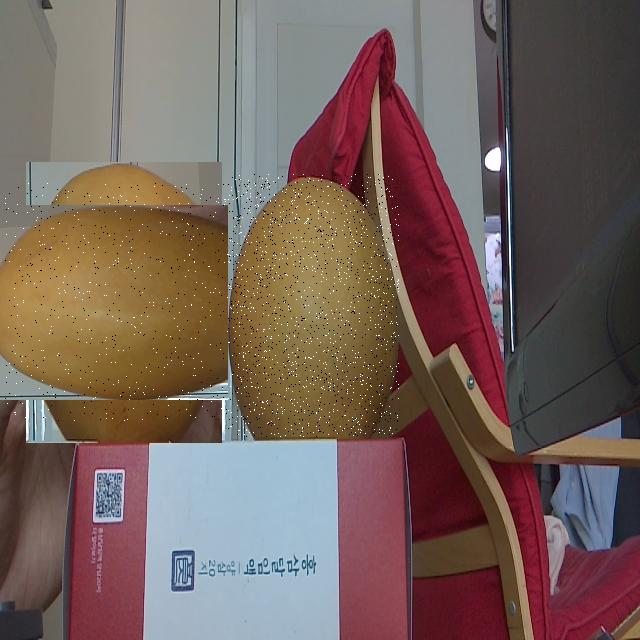pear: (5, 183, 243, 422), (228, 174, 399, 437)
